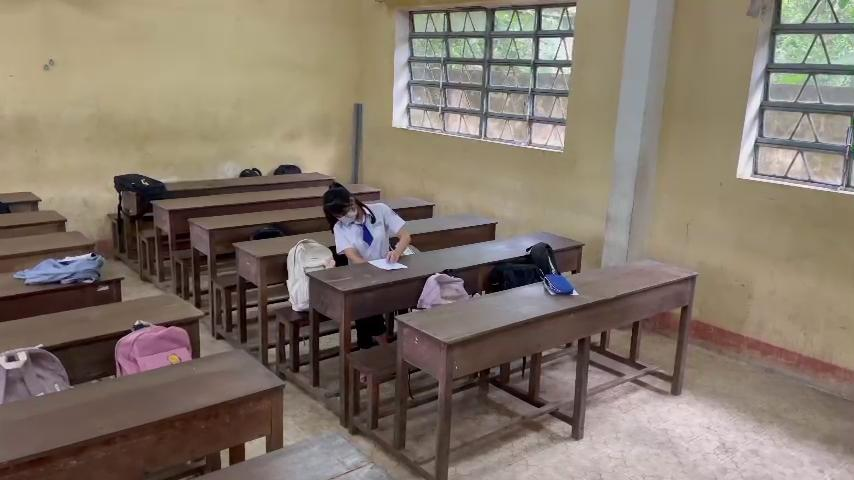Bend Over The Desk: (317, 176, 364, 231)
Hand Under Table: (323, 224, 370, 269)
